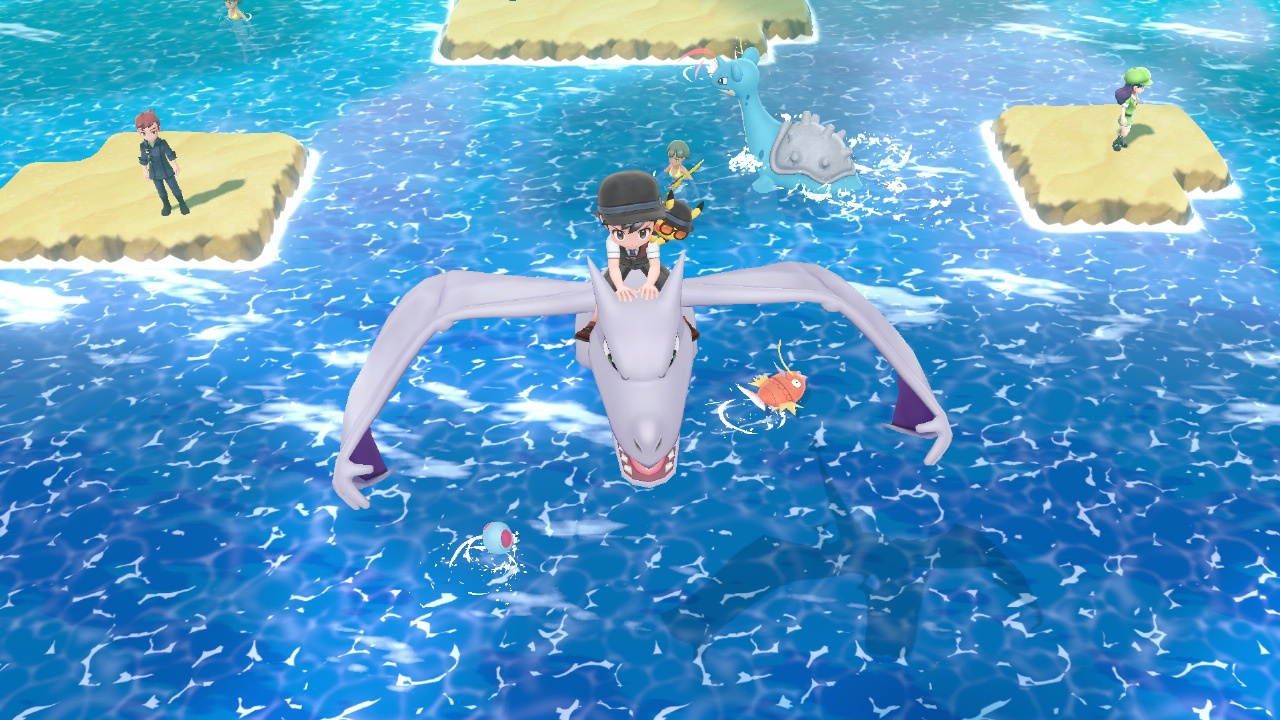Red: (736, 368, 807, 417)
